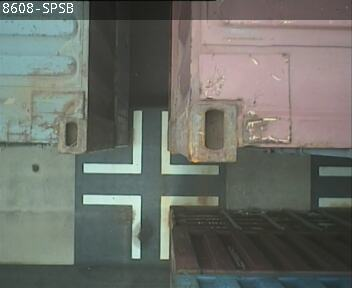groundmarker_1: (81, 110, 219, 173), (82, 195, 220, 258)
